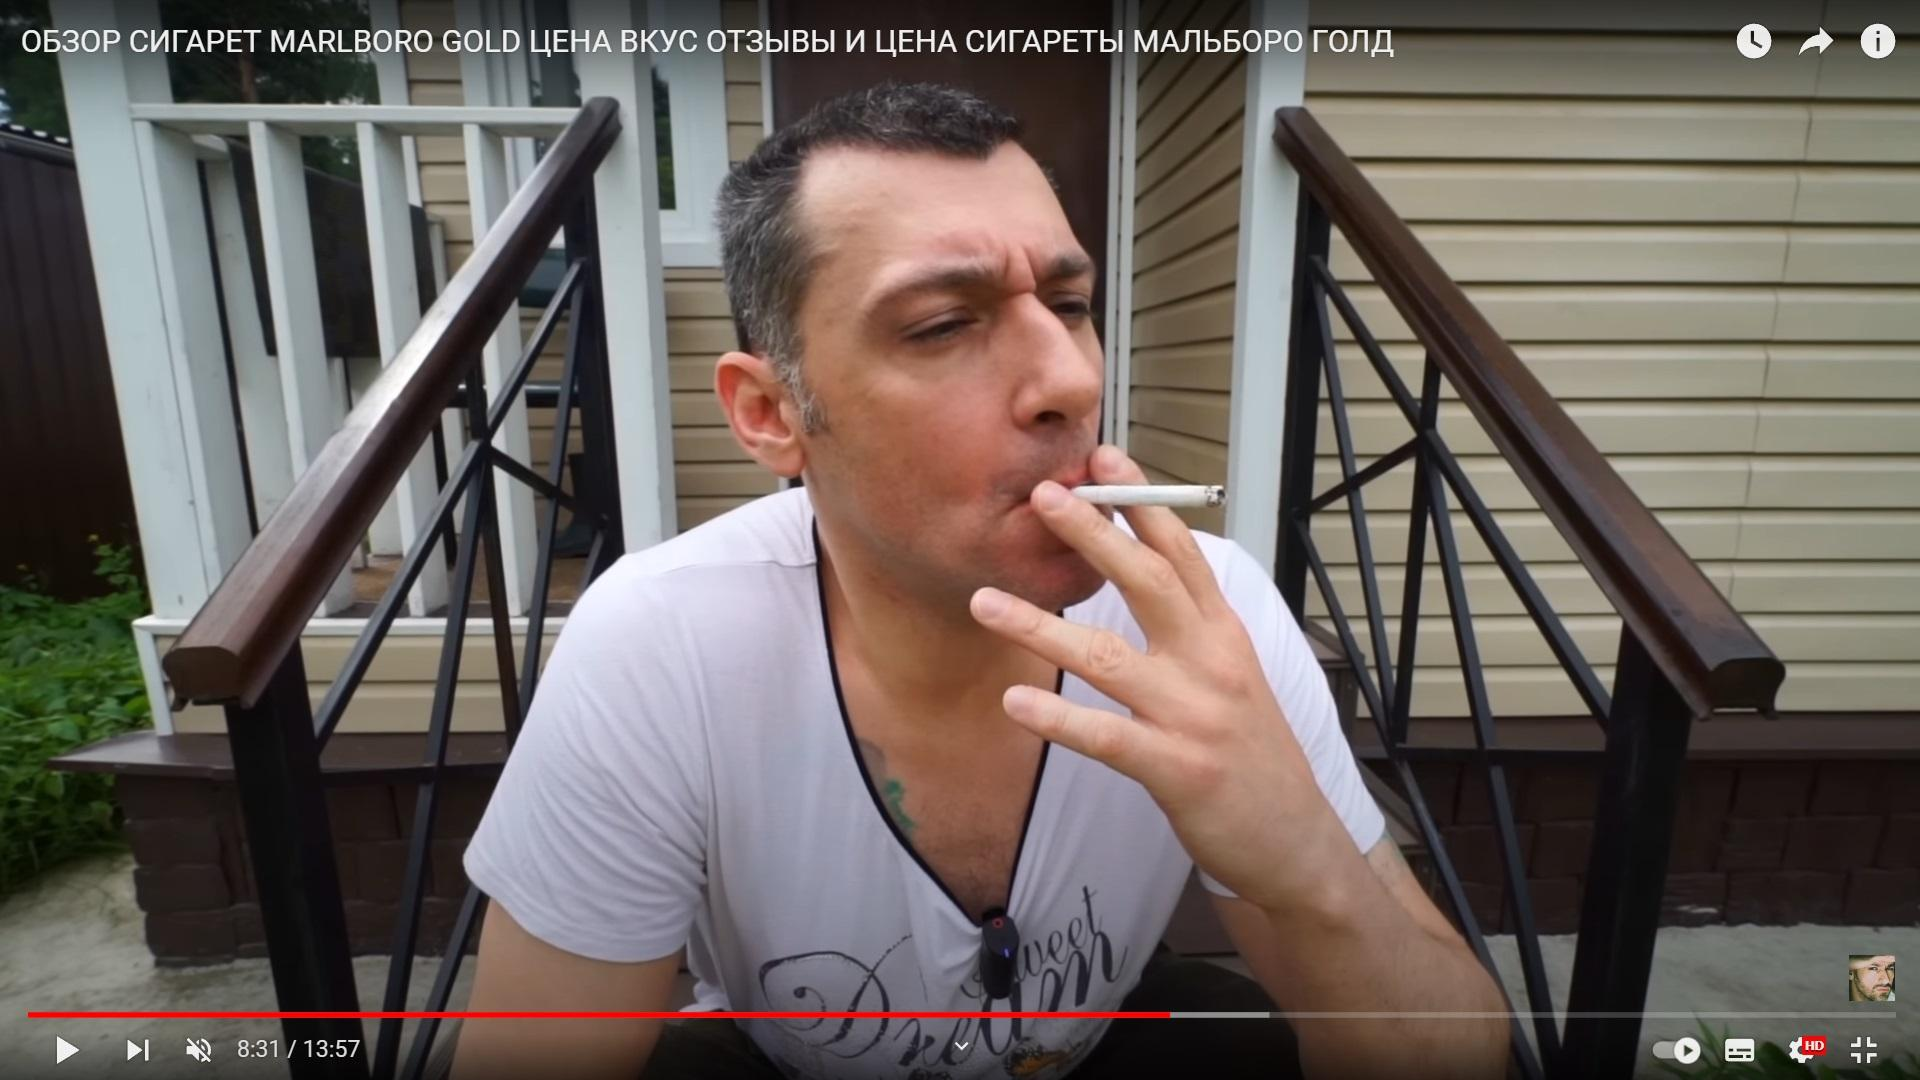cigarette: (1068, 485, 1228, 510)
